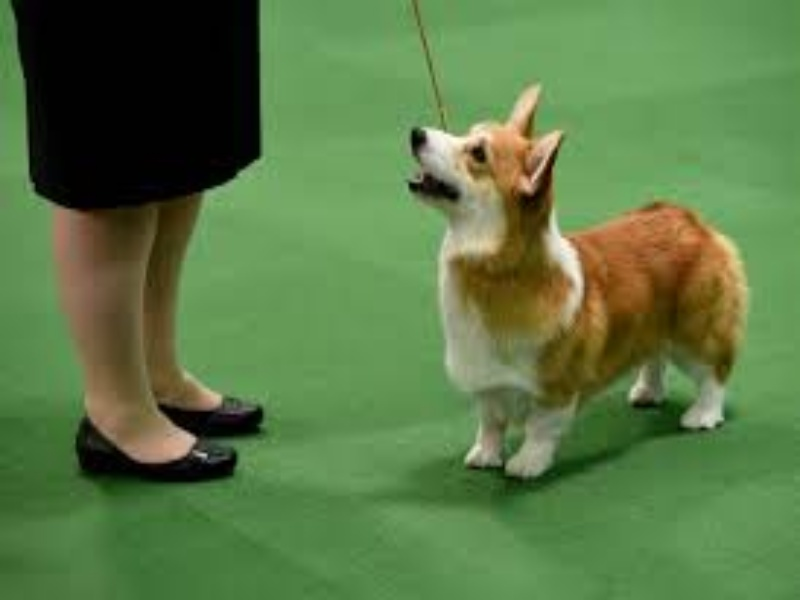dog: (373, 72, 758, 519)
